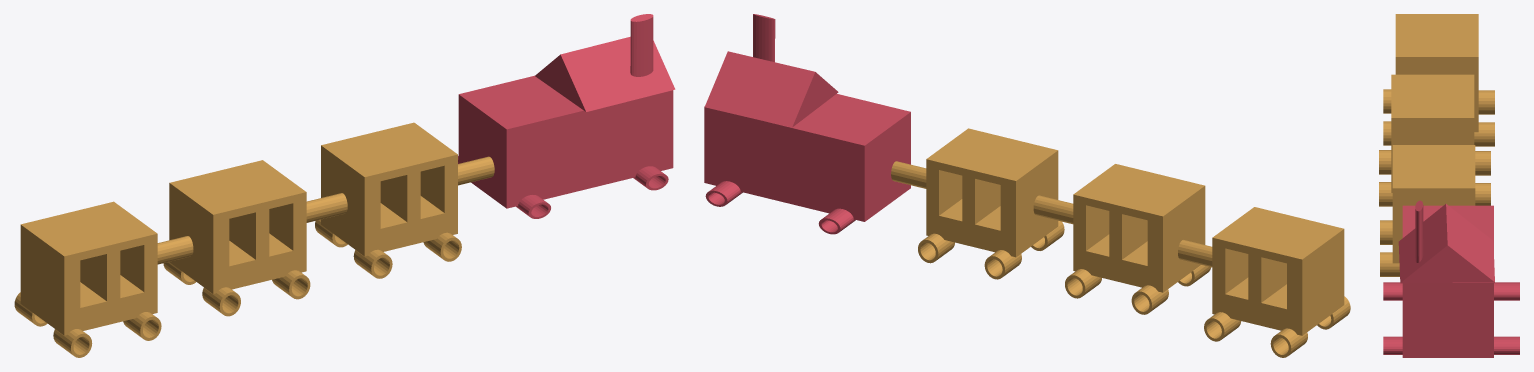
The model's file is Incredible Trug.glb.
3 views of the same model, side by side, from view 1: azimuth 30°, elevation 25°; view 2: azimuth 150°, elevation 25°; view 3: azimuth 270°, elevation 25° (orthographic). The views are drawn at different scales.
Parts seen in each view (by area): view 1: Mesh_Mesh_head_geo.001_lambert2SG.001; view 2: Mesh_Mesh_head_geo.001_lambert2SG.001; view 3: Mesh_Mesh_head_geo.001_lambert2SG.001.
Part boxes in pixels (x1,y1,x2,y2): Mesh_Mesh_head_geo.001_lambert2SG.001: [14, 14, 675, 357]; Mesh_Mesh_head_geo.001_lambert2SG.001: [704, 14, 1350, 357]; Mesh_Mesh_head_geo.001_lambert2SG.001: [1379, 14, 1519, 357].
Size of the model in its own units: 162 by 46.86 by 34.
